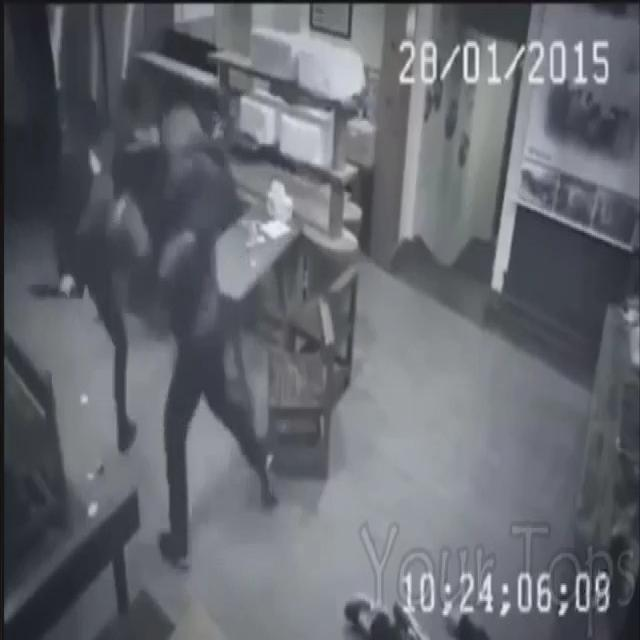fight: (64, 114, 282, 575)
